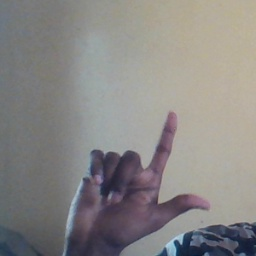L: (61, 108, 213, 247)
